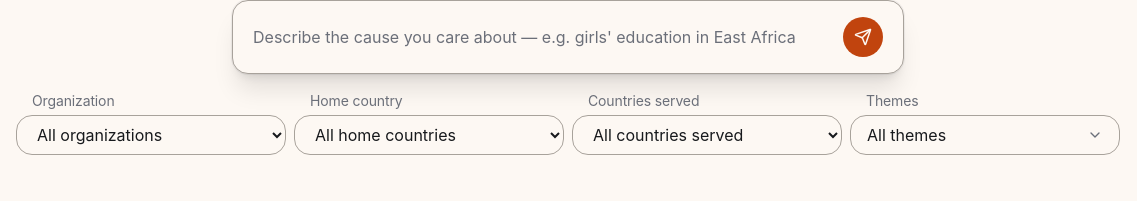
SearchControls › resets dropdown filters and re-runs the search with just the query
The width and height of the screenshot is (1137, 201).
Type "education for girls" into the field labelled "Describe the cause you care about" at coordinates (544, 37), box [253,25,835,49]
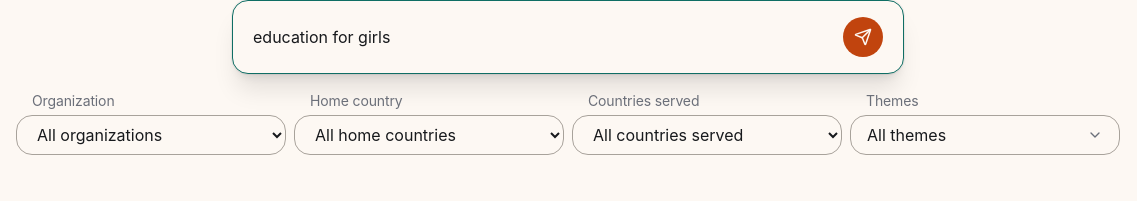
Select "Armenia" in the dropdown labelled "Home country" at coordinates (429, 135), box [294,115,564,155]
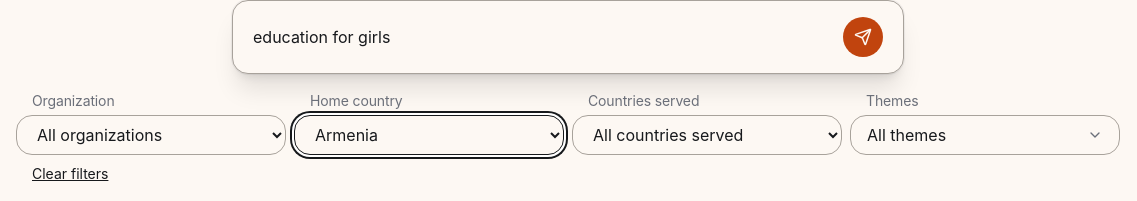
Select "Bahamas" in the dropdown labelled "Countries served" at coordinates (707, 135), box [572,115,842,155]
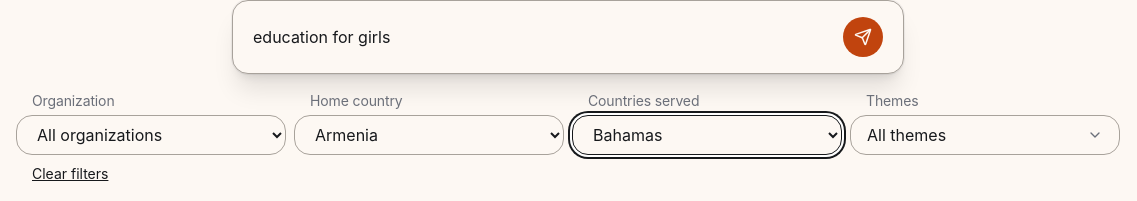
Click the button "Clear filters" at coordinates (62, 174), box [16,163,108,184]
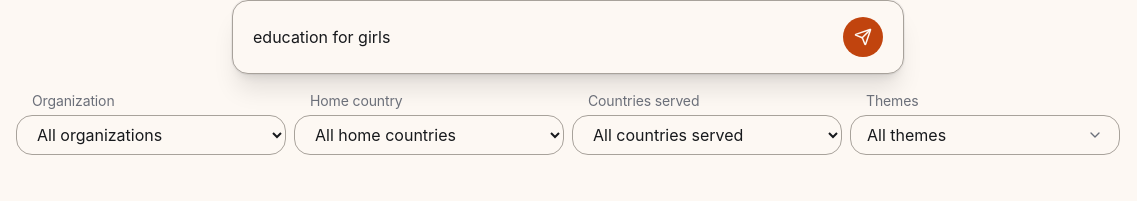
Expected: the button "Clear filters" is gone
